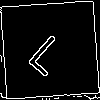L: (25, 25, 77, 78)
